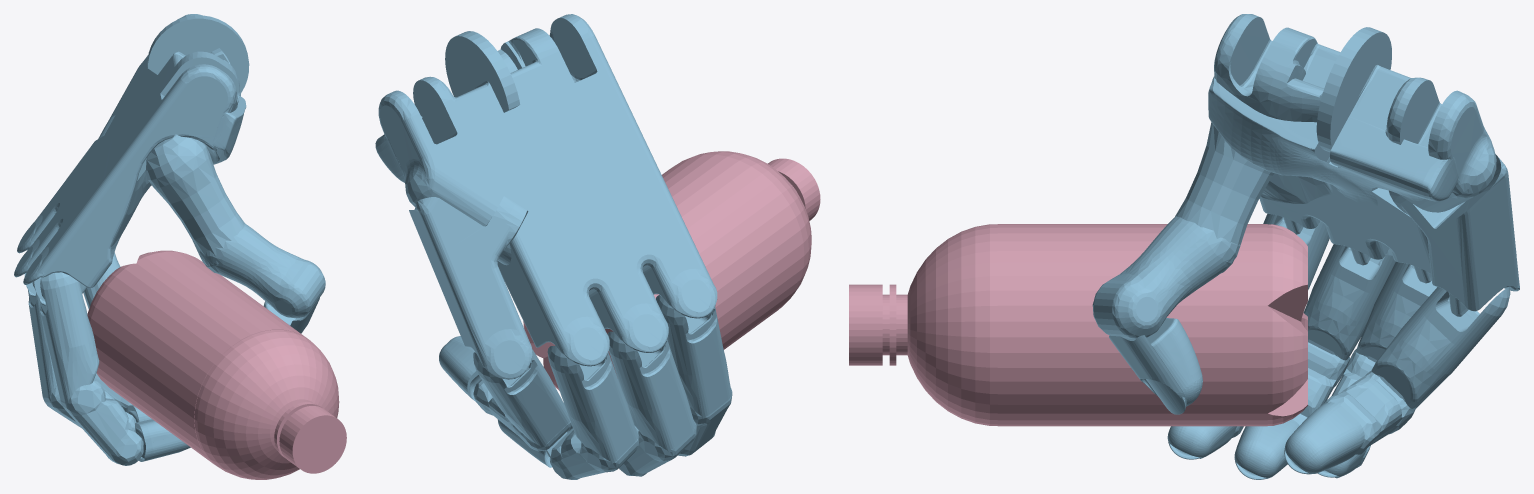
3 views of the same model, side by side, from view 1: azimuth 30°, elevation 25°; view 2: azimuth 150°, elevation 25°; view 3: azimuth 270°, elevation 25° (orthographic). The views are drawn at different scales.
Visible parts, largest first — view 1: world; view 2: world; view 3: world.
Part boxes in pixels (x1,y1,x2,y2): world: [14, 14, 346, 479]; world: [375, 14, 820, 479]; world: [849, 14, 1519, 479].
Size of the model in its own units: 0.1122 by 0.1614 by 0.1995.
